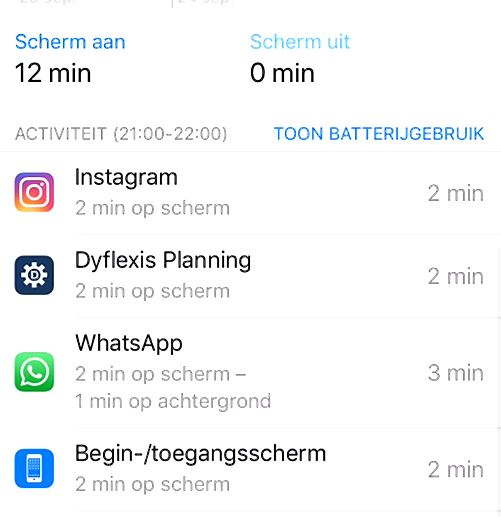activity: (8, 117, 236, 155)
app: (2, 322, 498, 424), (8, 164, 501, 235), (2, 242, 495, 313)
